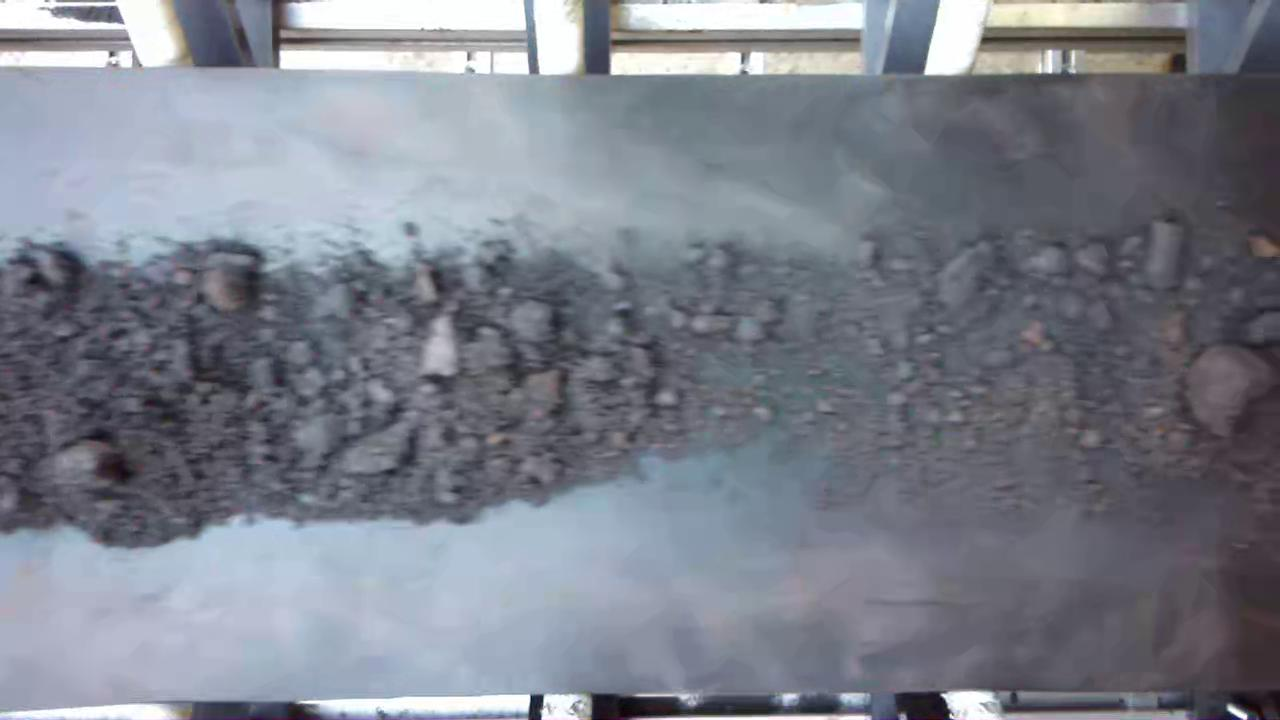conveyor: (3, 82, 1280, 686)
